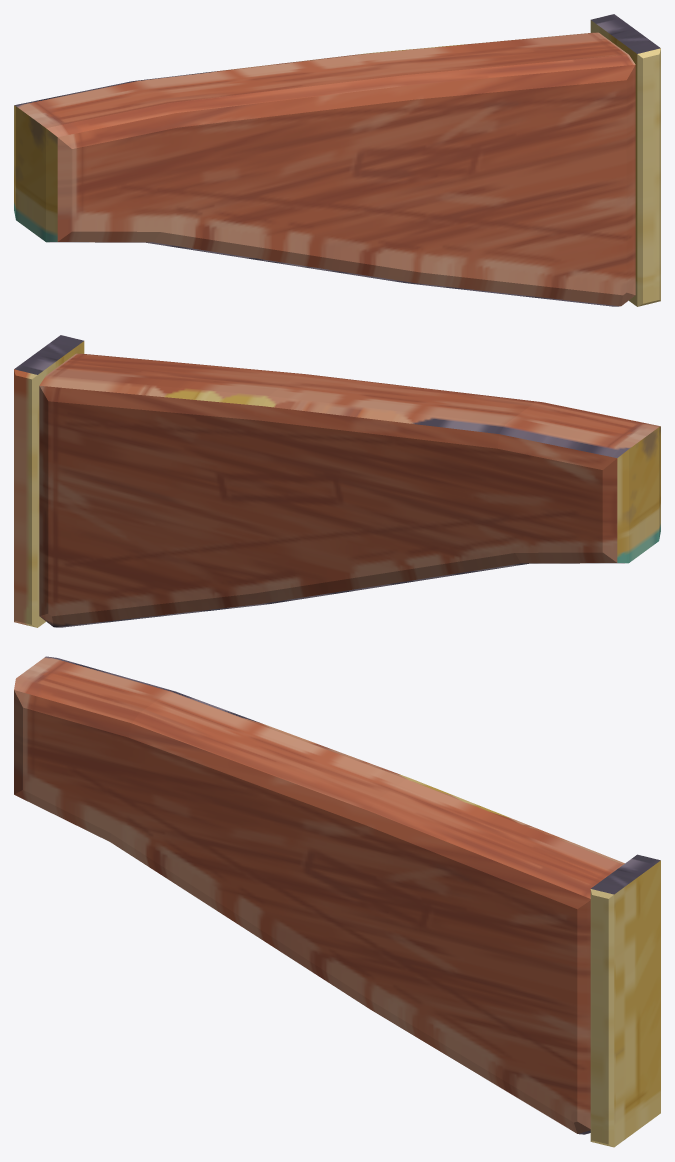
File: rifle_stock.fbx
3 renders of one model, top to bottom at view 1: azimuth 30°, elevation 25°; view 2: azimuth 150°, elevation 25°; view 3: azimuth 330°, elevation 25°, orthographic.
Parts seen in each view (by area): view 1: rifle_stock; view 2: rifle_stock; view 3: rifle_stock.
Boxes of the visible parts, <box> form: rifle_stock: <box>14,14,660,306</box>; rifle_stock: <box>14,335,660,627</box>; rifle_stock: <box>14,656,660,1147</box>.
Bounding box in the file's own units: 0.96 × 0.48 × 0.1395.
